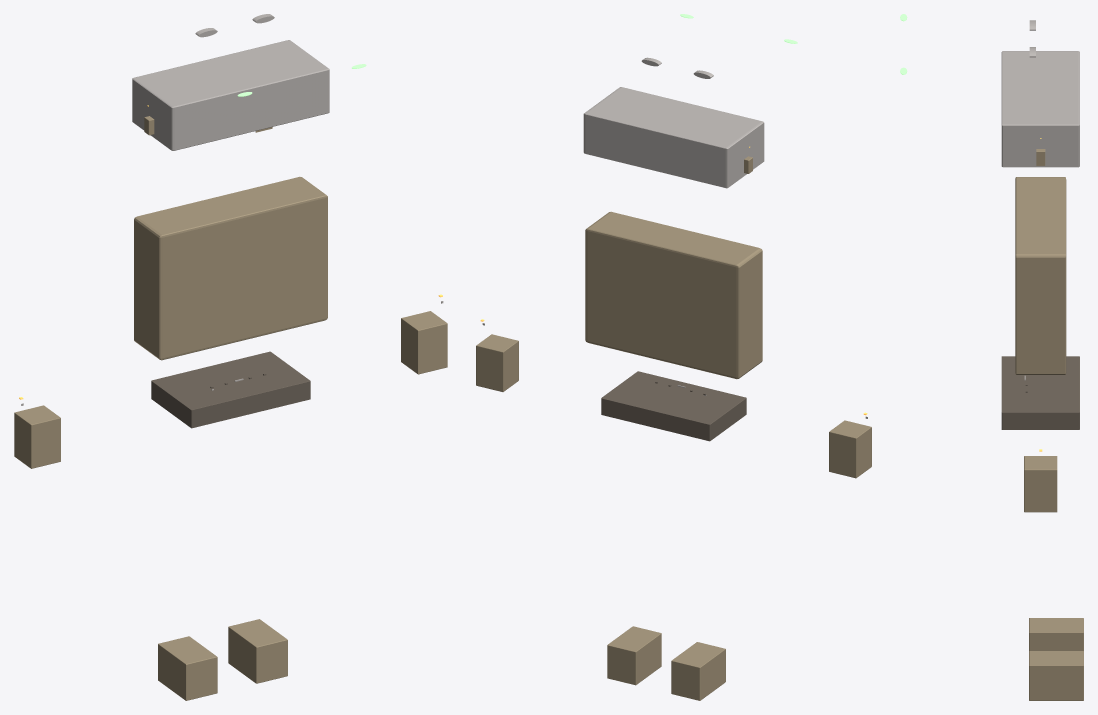
The model's file is outfit_patcher.glb.
The picture shows the model from 3 angles, left to right: view 1: azimuth 30°, elevation 25°; view 2: azimuth 150°, elevation 25°; view 3: azimuth 270°, elevation 25°; orthographic projection. The views are drawn at different scales.
Parts seen in each view (by area): view 1: outfit_patcher_chest_vest, outfit_patcher_head_visor, outfit_patcher_hip_belt, outfit_patcher_boot_R, outfit_patcher_boot_L, outfit_patcher_glove_L, outfit_patcher_glove_R; view 2: outfit_patcher_chest_vest, outfit_patcher_head_visor, outfit_patcher_hip_belt, outfit_patcher_boot_L, outfit_patcher_boot_R, outfit_patcher_glove_R, outfit_patcher_glove_L; view 3: outfit_patcher_chest_vest, outfit_patcher_head_visor, outfit_patcher_hip_belt, outfit_patcher_boot_R, outfit_patcher_glove_R, outfit_patcher_boot_L.
Part boxes in pixels (left/top/right/bottom): outfit_patcher_chest_vest: left=134, top=176, right=327, bottom=360; outfit_patcher_head_visor: left=132, top=40, right=329, bottom=150; outfit_patcher_hip_belt: left=151, top=351, right=310, bottom=428; outfit_patcher_boot_R: left=228, top=619, right=287, bottom=683; outfit_patcher_boot_L: left=158, top=636, right=217, bottom=700; outfit_patcher_glove_L: left=14, top=405, right=60, bottom=468; outfit_patcher_glove_R: left=401, top=311, right=447, bottom=374; outfit_patcher_chest_vest: left=585, top=211, right=762, bottom=379; outfit_patcher_head_visor: left=583, top=87, right=764, bottom=188; outfit_patcher_hip_belt: left=601, top=371, right=746, bottom=441; outfit_patcher_boot_L: left=671, top=642, right=725, bottom=700; outfit_patcher_boot_R: left=607, top=626, right=661, bottom=685; outfit_patcher_glove_R: left=476, top=334, right=518, bottom=391; outfit_patcher_glove_L: left=829, top=420, right=871, bottom=478; outfit_patcher_chest_vest: left=1015, top=177, right=1066, bottom=374; outfit_patcher_head_visor: left=1001, top=51, right=1079, bottom=167; outfit_patcher_hip_belt: left=1001, top=356, right=1079, bottom=429; outfit_patcher_boot_R: left=1029, top=651, right=1083, bottom=700; outfit_patcher_glove_R: left=1024, top=456, right=1057, bottom=512; outfit_patcher_boot_L: left=1029, top=618, right=1083, bottom=650.
Bounding box in the file's own units: 1.2 × 1.81 × 0.469.
